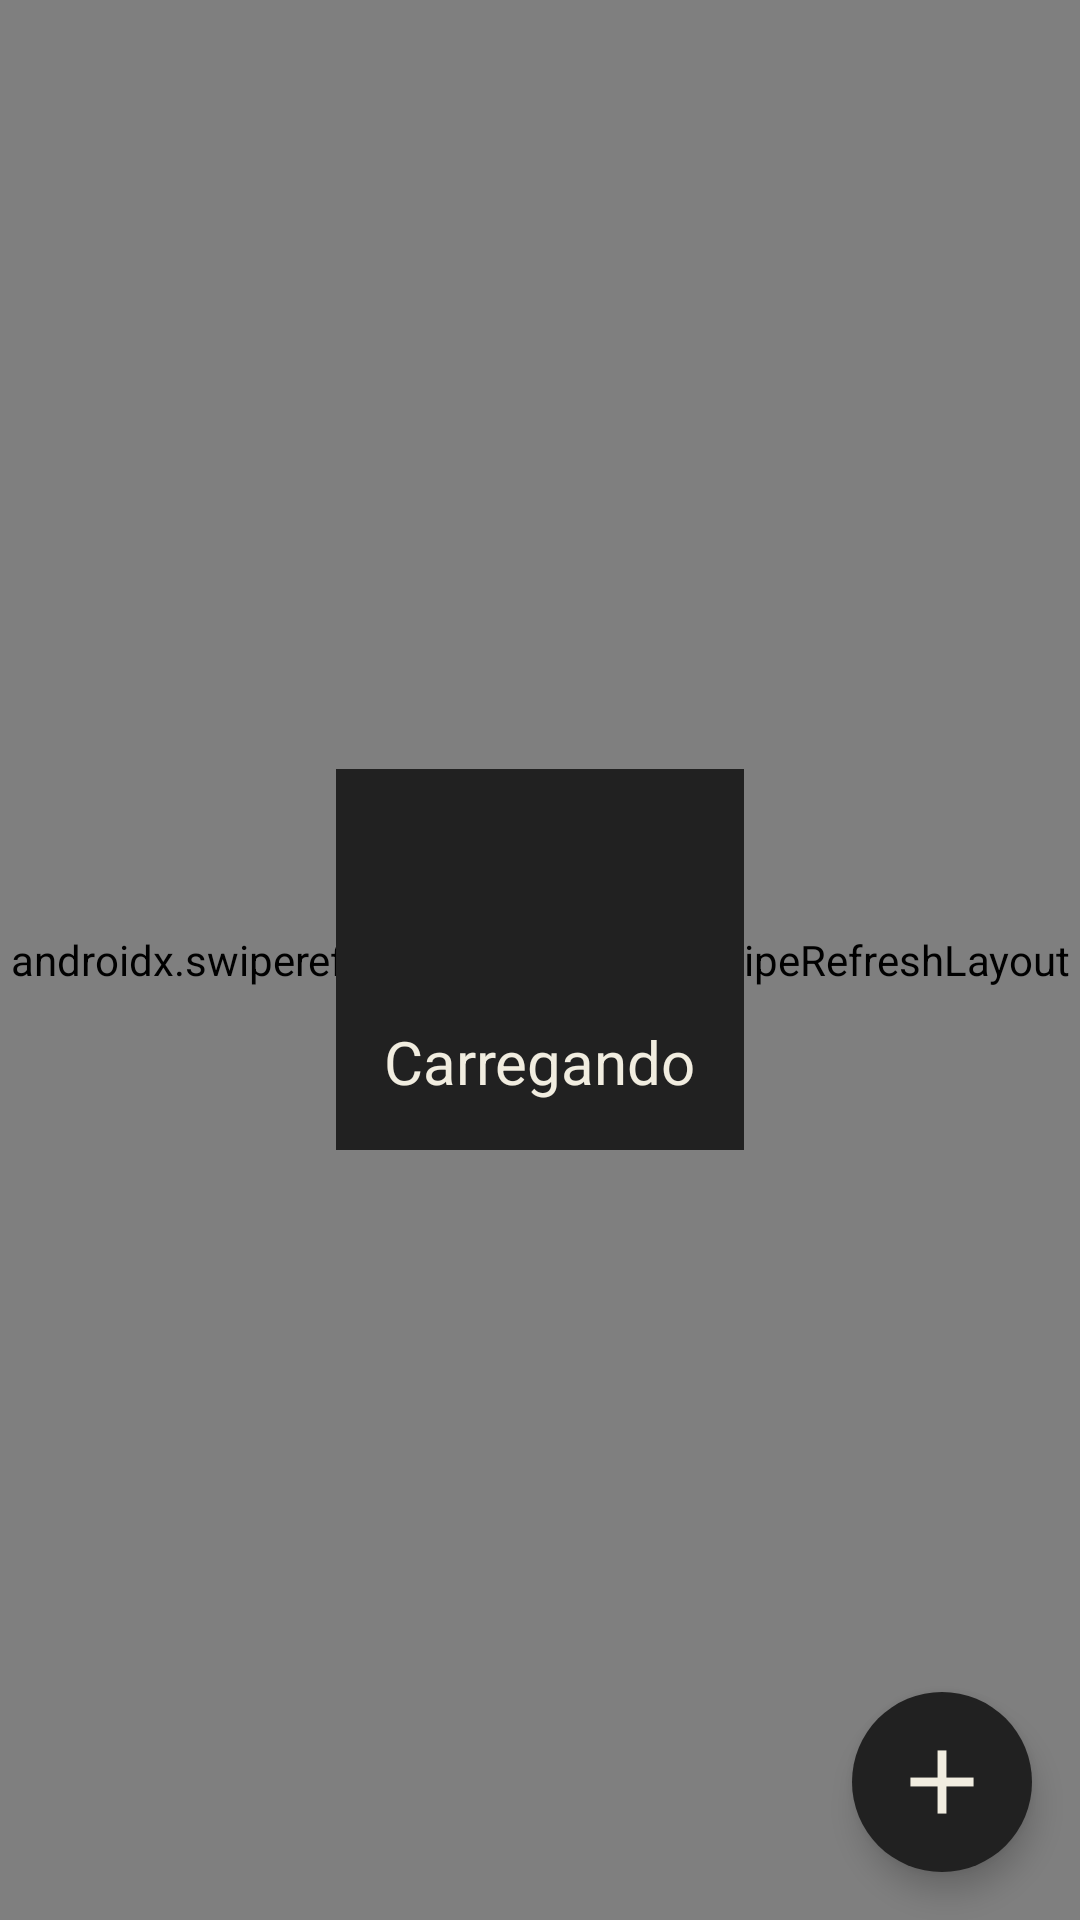

Screen size 1080px x 1920px. Icon name, then its center in pixels as point (x, y):
Adicionar coleção: point (942, 1782)
